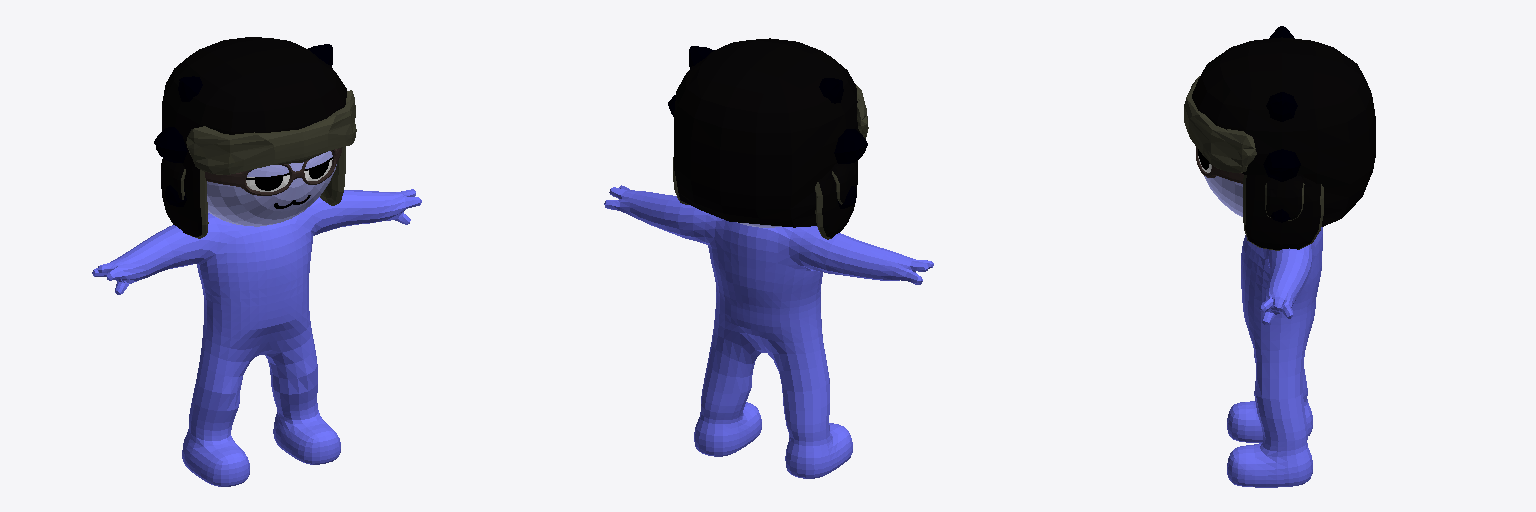
3 views of the same model, side by side, from view 1: azimuth 30°, elevation 25°; view 2: azimuth 150°, elevation 25°; view 3: azimuth 270°, elevation 25° (orthographic).
Visible parts, largest first — view 1: BODY.001, Cube.003, HEAD.001, Cube, Cube.001, Cube.004; view 2: BODY.001, Cube.003, Cube.001, HEAD.001; view 3: Cube.003, BODY.001, Cube.001, HEAD.001, Cube.
Part boxes in pixels (x1,y1,x2,y2): BODY.001: (92,189,421,486); Cube.003: (162,37,346,168); HEAD.001: (154,44,336,226); Cube: (186,90,356,174); Cube.001: (161,147,345,238); Cube.004: (205,148,341,195); BODY.001: (604,185,933,478); Cube.003: (674,38,859,227); Cube.001: (673,157,857,239); HEAD.001: (668,46,867,227); Cube.003: (1192,37,1375,226); BODY.001: (1227,227,1322,487); Cube.001: (1243,173,1323,250); HEAD.001: (1198,26,1300,222); Cube: (1184,76,1256,172).
Bounding box in the file's own units: 3.87 × 4.72 × 2.02.
Materials: 6 (1 with a texture image).